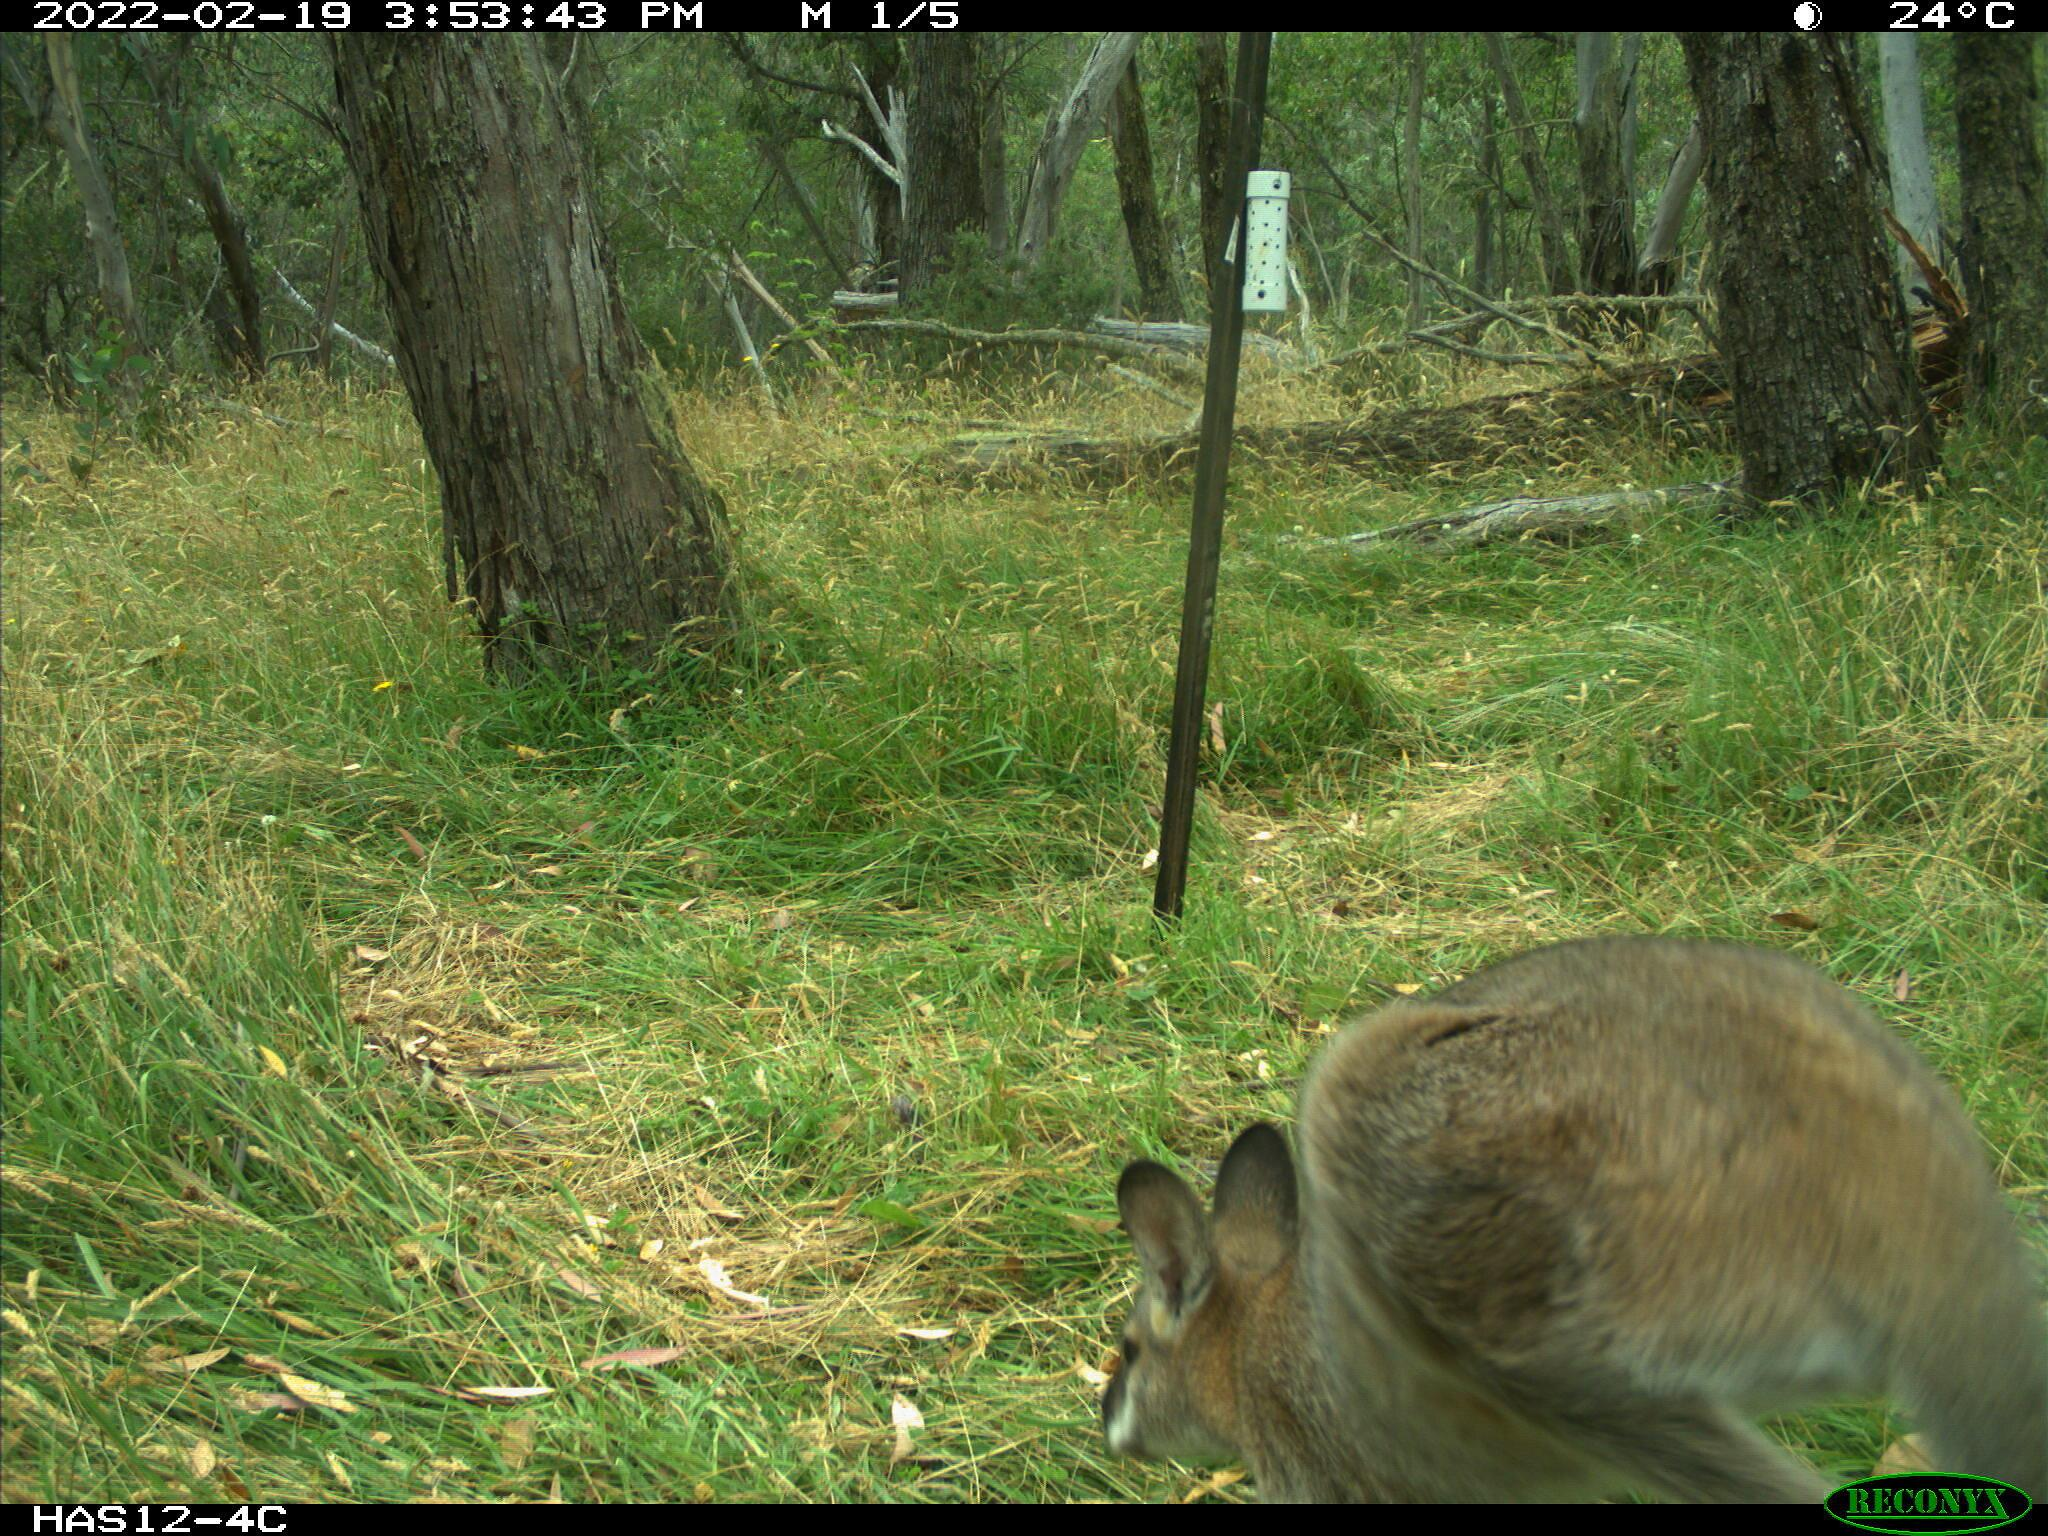Red-necked wallaby: (1100, 926, 2048, 1471)
